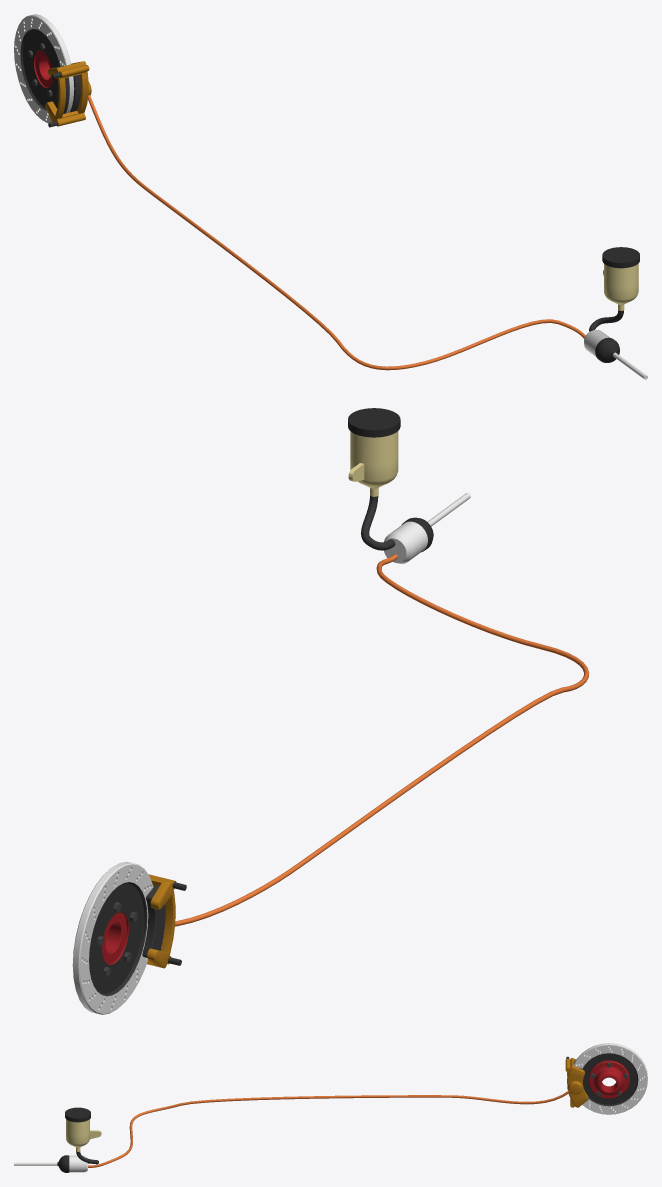
File: gokart_brakes.dae
The picture shows the model from 3 angles, top to bottom: view 1: azimuth 30°, elevation 25°; view 2: azimuth 150°, elevation 25°; view 3: azimuth 270°, elevation 25°; orthographic projection. The views are drawn at different scales.
Visible parts, largest first — view 1: brake_disc, kart_brake_master, brake_hardline, brake_caliper; view 2: brake_disc, kart_brake_master, brake_hardline, brake_caliper; view 3: brake_disc, brake_hardline, kart_brake_master, brake_caliper.
Part boxes in pixels (x1,y1,x2,y2): brake_disc: (14,14,74,123); kart_brake_master: (584,247,647,379); brake_hardline: (88,95,585,370); brake_caliper: (45,61,91,127); brake_disc: (72,861,153,1014); kart_brake_master: (348,408,470,563); brake_hardline: (175,554,589,926); brake_caliper: (142,874,186,968); brake_disc: (573,1043,647,1114); brake_hardline: (88,1090,569,1167); kart_brake_master: (14,1107,101,1172); brake_caliper: (565,1056,588,1107).
Bounding box in the file's own units: 0.3604 × 1.22 × 0.1543.
